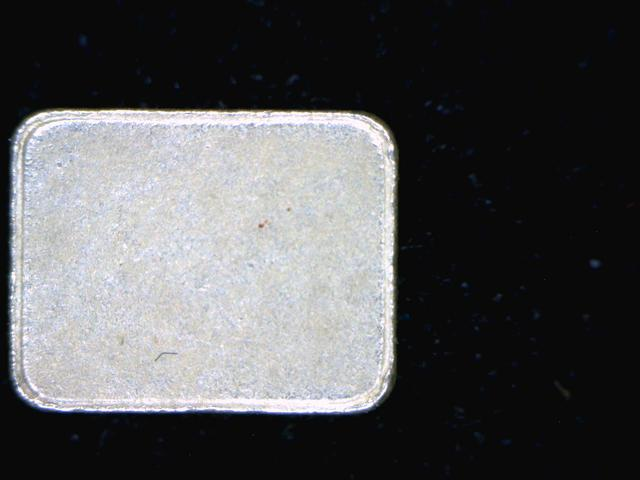nok: (10, 102, 400, 415)
